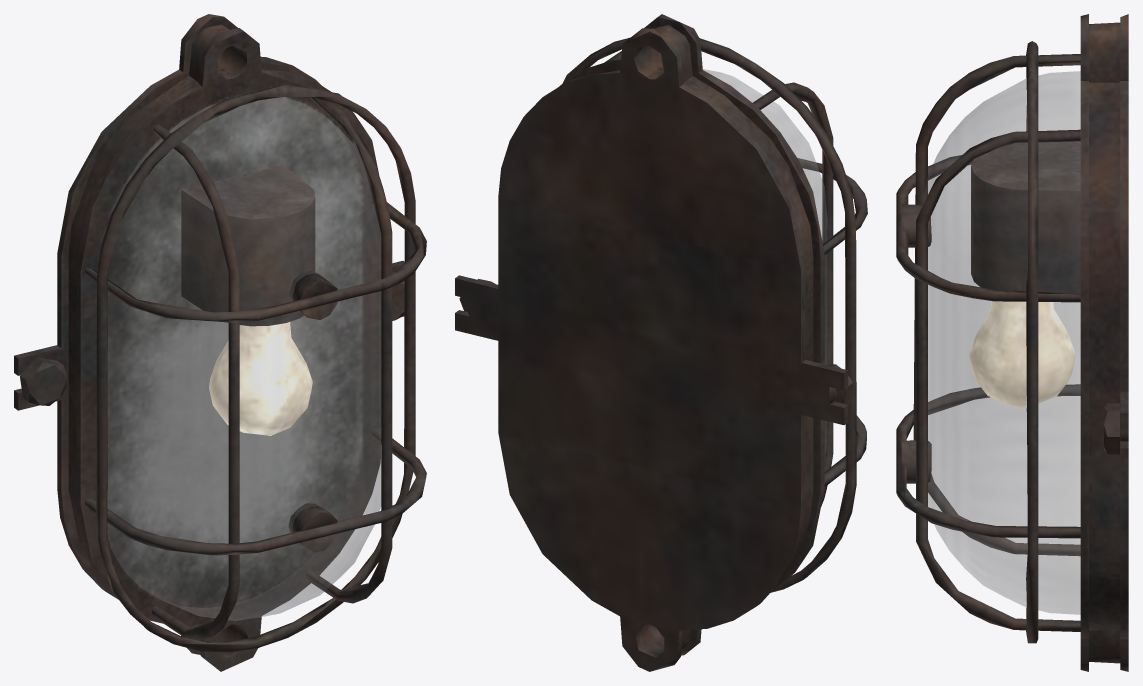
The model's file is industrial_wall_lamp.glb.
The picture shows the model from 3 angles, left to right: view 1: azimuth 30°, elevation 25°; view 2: azimuth 150°, elevation 25°; view 3: azimuth 270°, elevation 25°; orthographic projection.
Parts seen in each view (by area): view 1: Sphere004, Sphere004_1; view 2: Sphere004, Sphere004_1; view 3: Sphere004, Sphere004_1.
Boxes of the visible parts, x1,y1,x2,y2 form: Sphere004: (14, 14, 426, 671); Sphere004_1: (107, 97, 380, 620); Sphere004: (455, 14, 867, 671); Sphere004_1: (703, 69, 827, 454); Sphere004: (896, 14, 1128, 671); Sphere004_1: (923, 71, 1080, 614).
Size of the model in its own units: 0.2735 by 0.4299 by 0.139.
2 materials, 2 textured.
